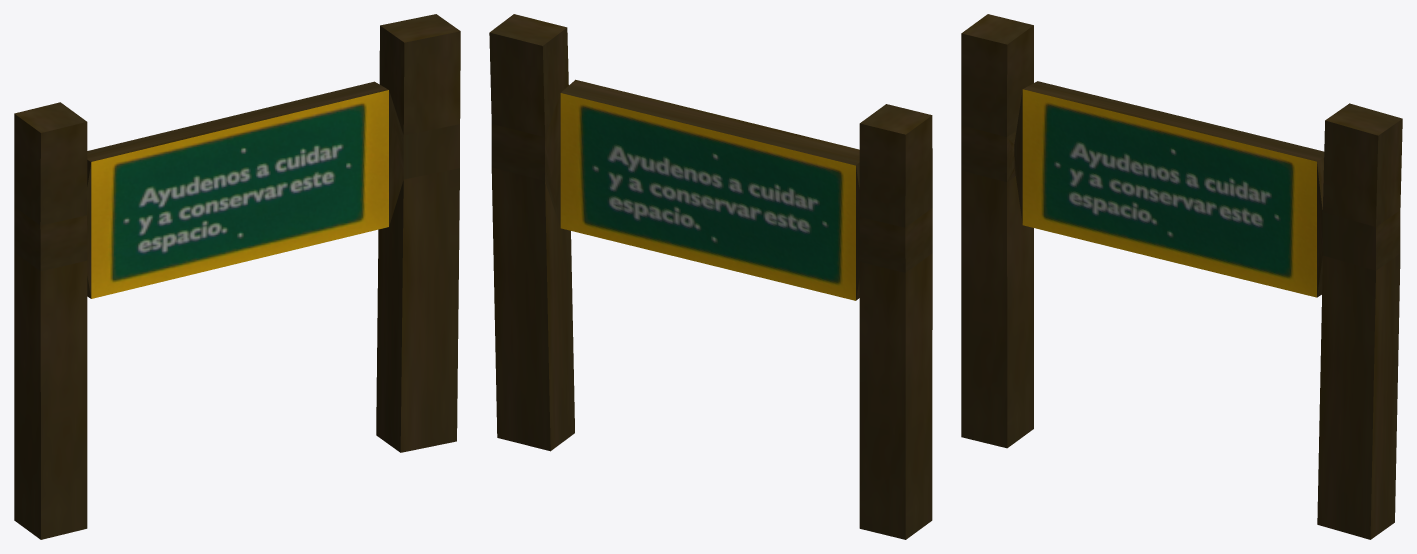
Rendered from CartelLagos.obj.
3 views of the same model, side by side, from view 1: azimuth 30°, elevation 25°; view 2: azimuth 150°, elevation 25°; view 3: azimuth 330°, elevation 25° (orthographic).
Parts seen in each view (by area): view 1: Cube_Cube.001; view 2: Cube_Cube.001; view 3: Cube_Cube.001.
Part boxes in pixels (x1=…): Cube_Cube.001: x1=14, y1=14, x2=460, y2=539; Cube_Cube.001: x1=489, y1=14, x2=932, y2=539; Cube_Cube.001: x1=961, y1=14, x2=1402, y2=539.
Bounding box in the file's own units: 2.75 × 2.55 × 0.3258.
Materials: 1 (1 with a texture image).
